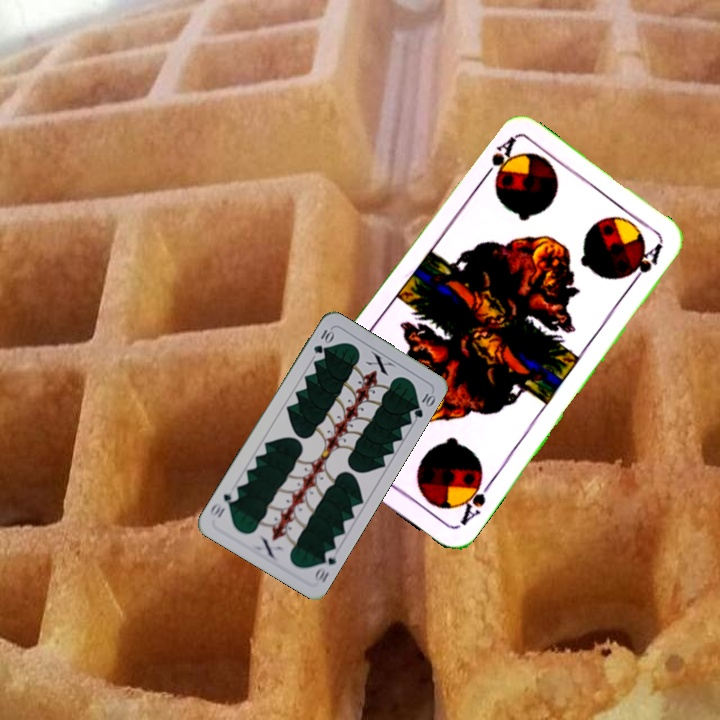G10: (310, 545, 340, 585), (309, 324, 336, 356)
SA: (455, 471, 495, 529), (477, 132, 519, 185)
